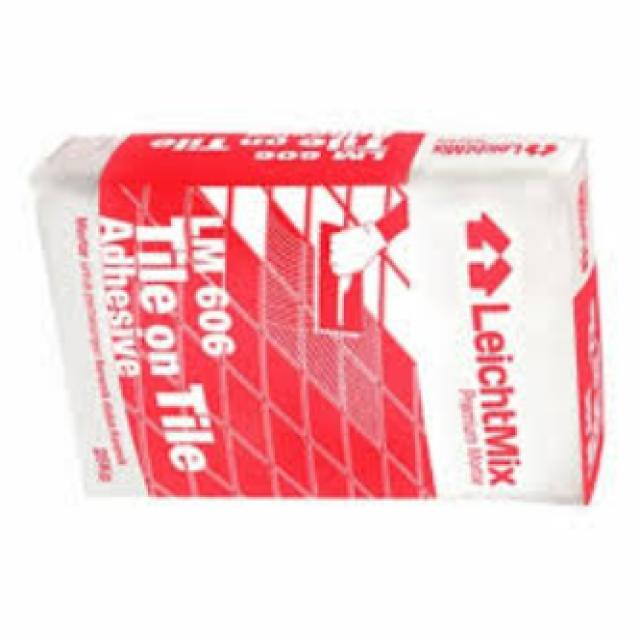KantongSemen: (27, 128, 605, 504)
